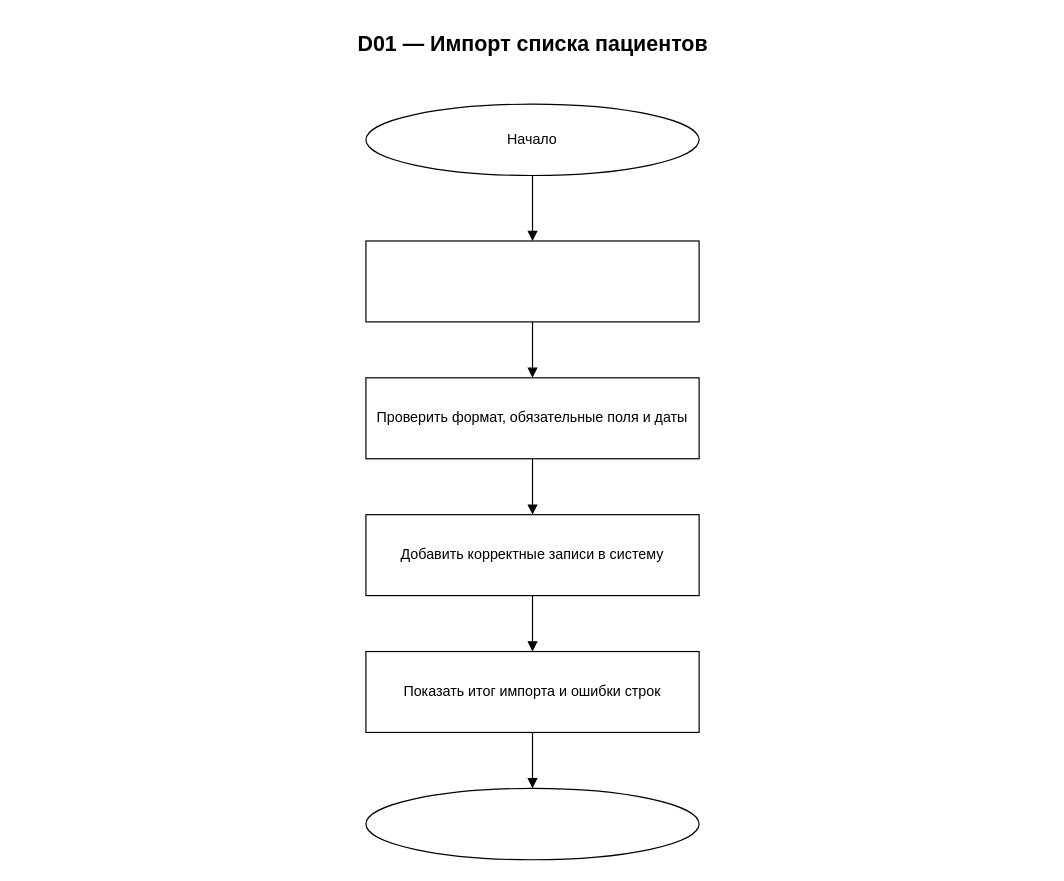
Some shapes in this 1064 by 881 pixel diagram are drawn without their labels. Here are the shapes that lost their labels. From the top down, the centre of each, then its label:
point (532, 281): Выбрать файл списка пациентов
point (532, 823): Конец
